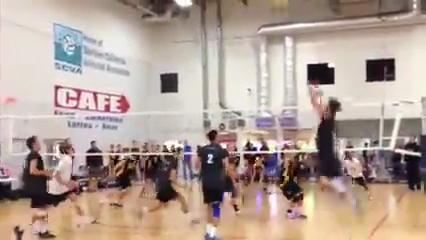Player: (48, 142, 95, 225), (143, 154, 197, 223), (196, 130, 228, 239), (23, 136, 55, 238), (279, 159, 307, 219), (109, 148, 132, 206), (344, 151, 371, 199), (224, 154, 239, 214)
Set: (305, 80, 347, 200)
ball: (269, 0, 292, 12)
